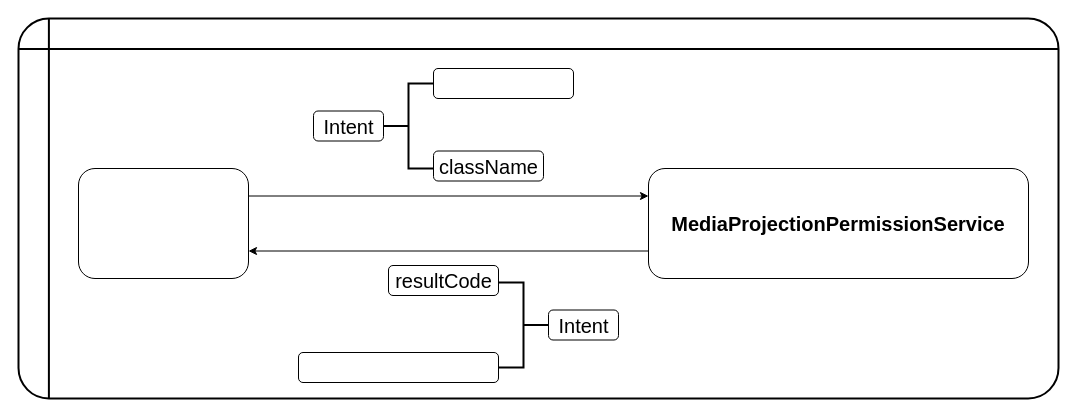
This 1076x416 diagram has some shape labels left out. The centre of each missing label's shape, as x and y in pixels:
"packageName" belongs at [503,83].
"projection.asBinder()" belongs at [398,367].
"RecordService" belongs at [163,223].
